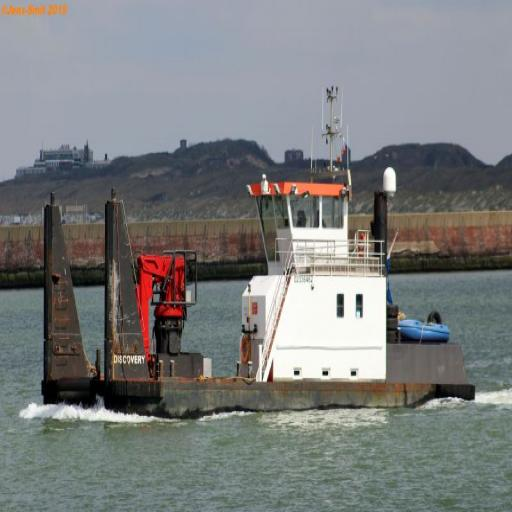tugboat: (40, 147, 481, 431)
